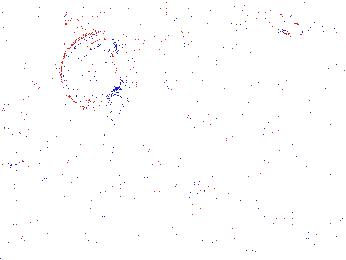moon jellyfish: (164, 30, 240, 131), (60, 32, 121, 111), (1, 78, 54, 165), (198, 49, 283, 101), (99, 47, 188, 94), (1, 33, 58, 86)
